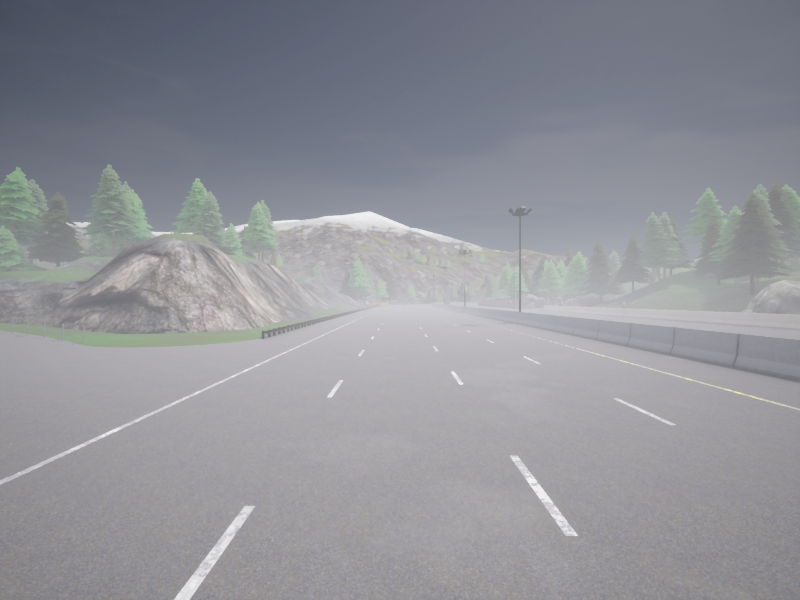vehicle: (445, 302, 449, 304)
